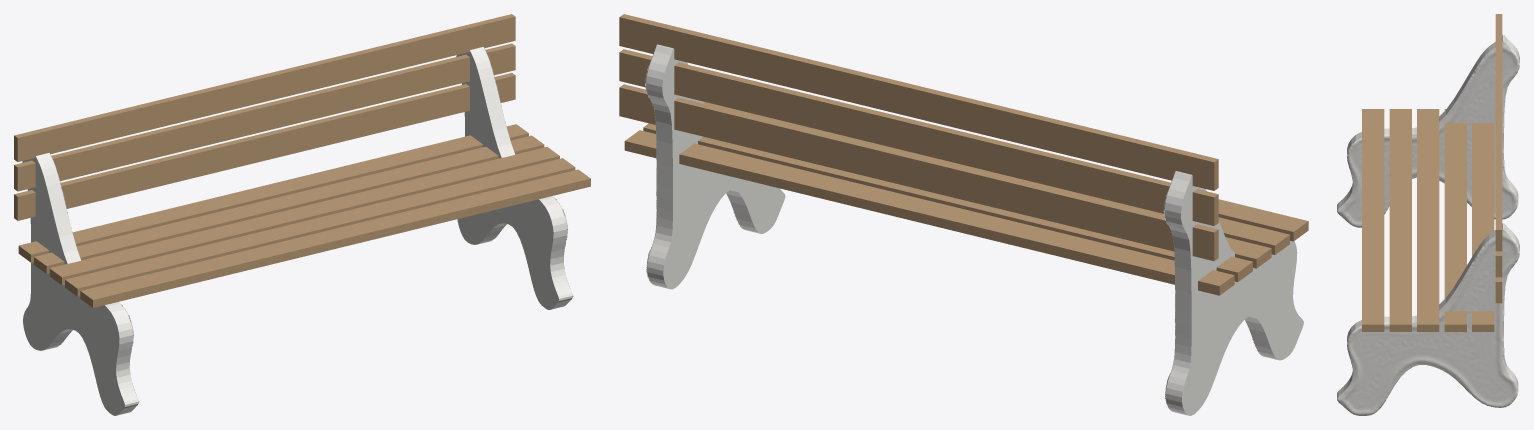
Rendered from terilgan.glb.
3 renders of one model, left to right at view 1: azimuth 30°, elevation 25°; view 2: azimuth 150°, elevation 25°; view 3: azimuth 270°, elevation 25°, orthographic. The views are drawn at different scales.
Visible parts, largest first — view 1: Orqa2, Orqa1, Orqa0, t-1, Sed0, t1, Sed1, Sed2, Sed3, Sed4; view 2: Orqa2, Orqa0, Orqa1, t-1, Sed4, t1, Sed3, Sed1, Sed0, Sed2; view 3: t1, t-1, Sed0, Sed1, Sed2, Sed3, Sed4, Orqa2, Orqa0, Orqa1.
Part boxes in pixels (x1,y1,x2,y2): Orqa2: (14, 14, 515, 161); Orqa1: (14, 43, 515, 191); Orqa0: (14, 73, 515, 220); t-1: (22, 153, 139, 415); Sed0: (80, 169, 590, 307); t1: (456, 47, 573, 309); Sed1: (65, 158, 575, 296); Sed2: (49, 147, 559, 285); Sed3: (34, 135, 544, 273); Sed4: (18, 124, 528, 262); Orqa2: (619, 14, 1218, 190); Orqa0: (619, 84, 1218, 261); Orqa1: (619, 49, 1218, 225); t-1: (1163, 171, 1303, 415); Sed4: (624, 130, 1234, 295); t1: (645, 44, 785, 289); Sed3: (643, 123, 1252, 281); Sed1: (703, 101, 1289, 254); Sed0: (1218, 199, 1308, 241); Sed2: (1225, 237, 1271, 268); t1: (1337, 223, 1519, 415); t-1: (1337, 34, 1519, 227); Sed0: (1362, 109, 1384, 331); Sed1: (1389, 109, 1411, 331); Sed2: (1417, 109, 1439, 331); Sed3: (1444, 109, 1466, 331); Sed4: (1472, 123, 1494, 331); Orqa2: (1495, 14, 1502, 251); Orqa0: (1495, 277, 1502, 303); Orqa1: (1495, 251, 1502, 277).
Size of the model in its own units: 1.95 by 0.8432 by 0.6979.
